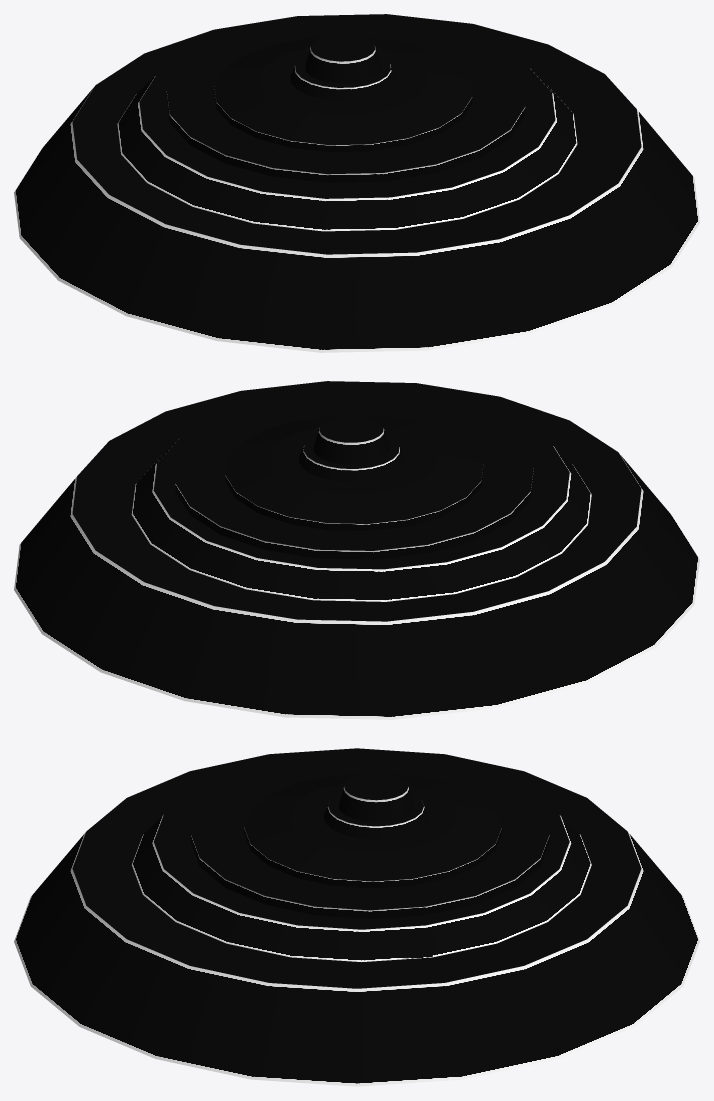
File: Hologram Projector Final.fbx
3 renders of one model, top to bottom at view 1: azimuth 30°, elevation 25°; view 2: azimuth 150°, elevation 25°; view 3: azimuth 270°, elevation 25°, orthographic.
Parts seen in each view (by area): view 1: pCylinder180; view 2: pCylinder180; view 3: pCylinder180.
Boxes of the visible parts, bbox=[...] form: pCylinder180: bbox=[14, 14, 699, 352]; pCylinder180: bbox=[14, 381, 699, 719]; pCylinder180: bbox=[14, 748, 699, 1086].
Size of the model in its own units: 2.41 by 0.5934 by 2.41.
1 material, 1 textured.
